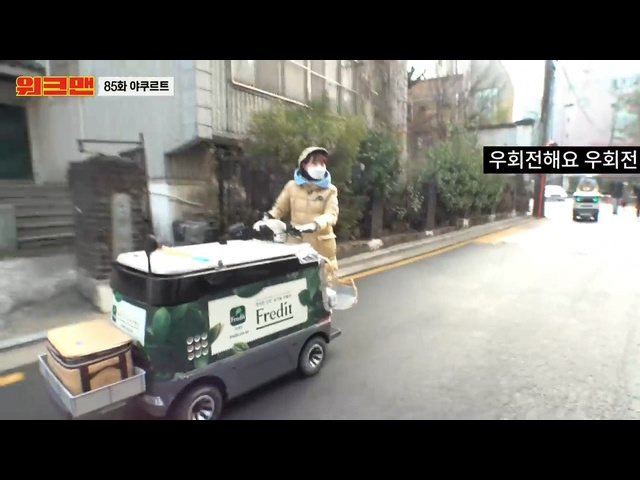Yakurut: (274, 148, 349, 248)
